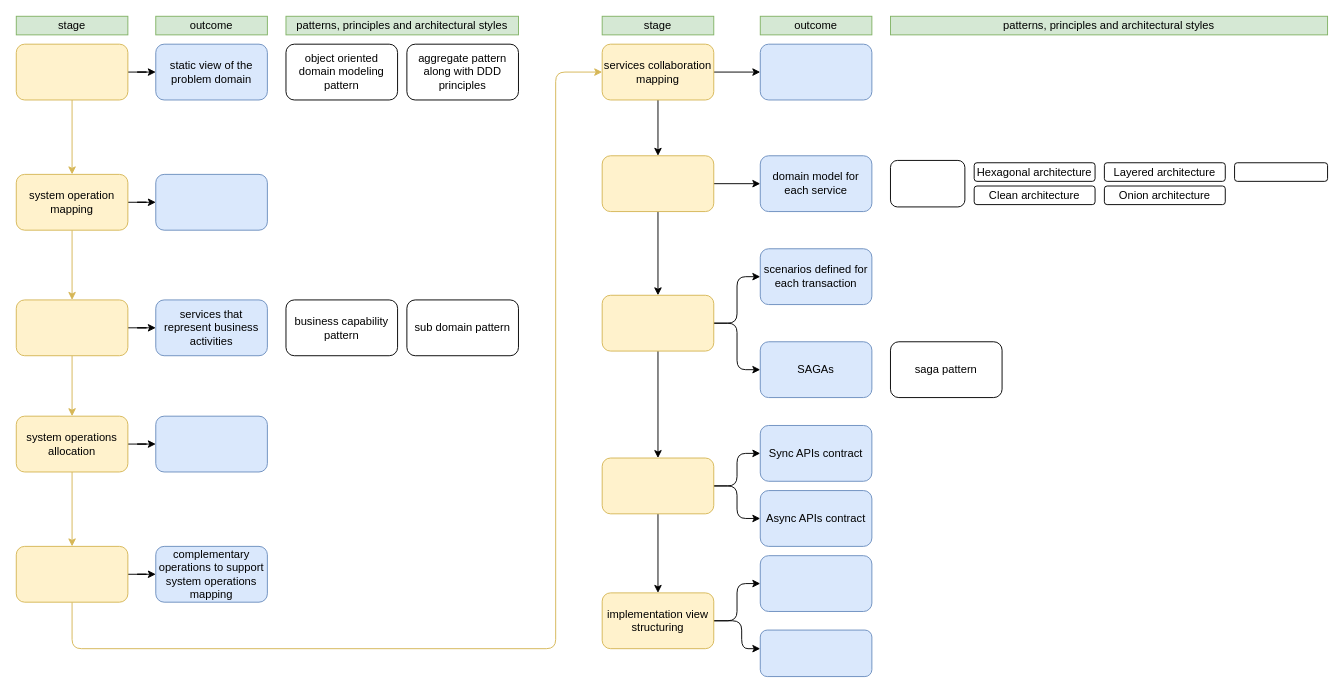
The diagram is 1344 pixels wide and 693 high, and some of its shapes have lost their labels. Here are the shapes that lost their labels. From the top down, the centre of each, then its label:
At point (71, 71): "high level domain model".
At point (815, 71): "complete implementation view using microservices architectural style".
At point (657, 183): "service level domain modeling".
At point (927, 183): "DDD principles and patterns".
At point (1281, 171): "MV* architecture".
At point (211, 201): "which actions the system must perform".
At point (71, 327): "service decomposition".
At point (657, 322): "distributed transactions identification and ACD addressing".
At point (211, 443): "identified system operations assigned to services".
At point (657, 485): "APIs definition".
At point (71, 573): "service operations identification and allocation".
At point (815, 583): "services and integration technologies definition".
At point (815, 653): "infrastructure components definition".
